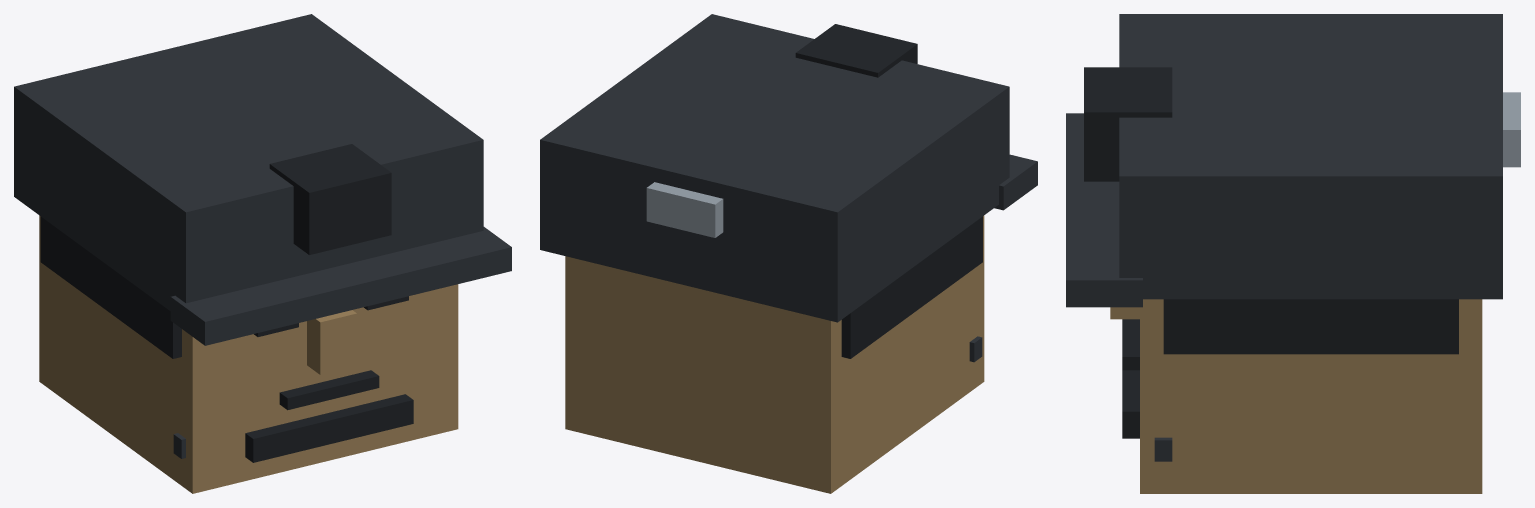
The model's file is pc_assault_head.fbx.
3 views of the same model, side by side, from view 1: azimuth 30°, elevation 25°; view 2: azimuth 150°, elevation 25°; view 3: azimuth 270°, elevation 25° (orthographic). The views are drawn at different scales.
Visible parts, largest first — view 1: pc_assault_head; view 2: pc_assault_head; view 3: pc_assault_head.
Part boxes in pixels (x1=…): pc_assault_head: x1=14, y1=14, x2=511, y2=493; pc_assault_head: x1=540, y1=14, x2=1037, y2=493; pc_assault_head: x1=1066, y1=14, x2=1520, y2=493.
Bounding box in the file's own units: 134 × 124 × 154.
